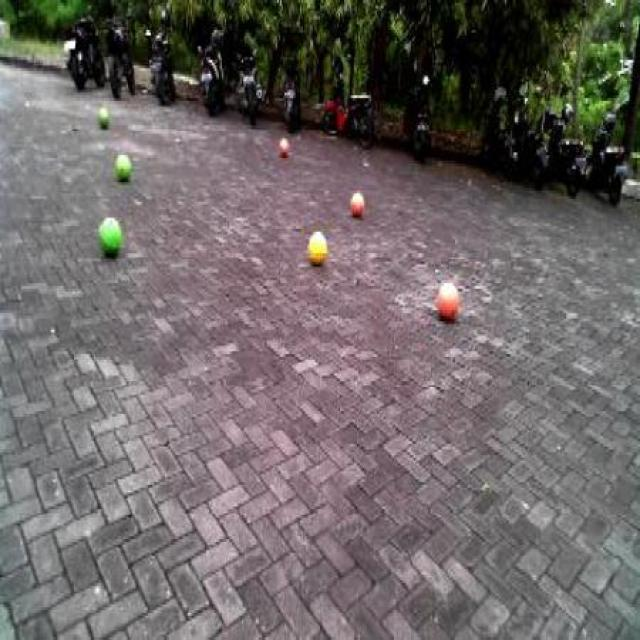buoy: (96, 210, 126, 260), (433, 278, 463, 324), (305, 227, 329, 271), (346, 186, 368, 219), (114, 150, 132, 186), (275, 134, 294, 166), (95, 102, 111, 132)
